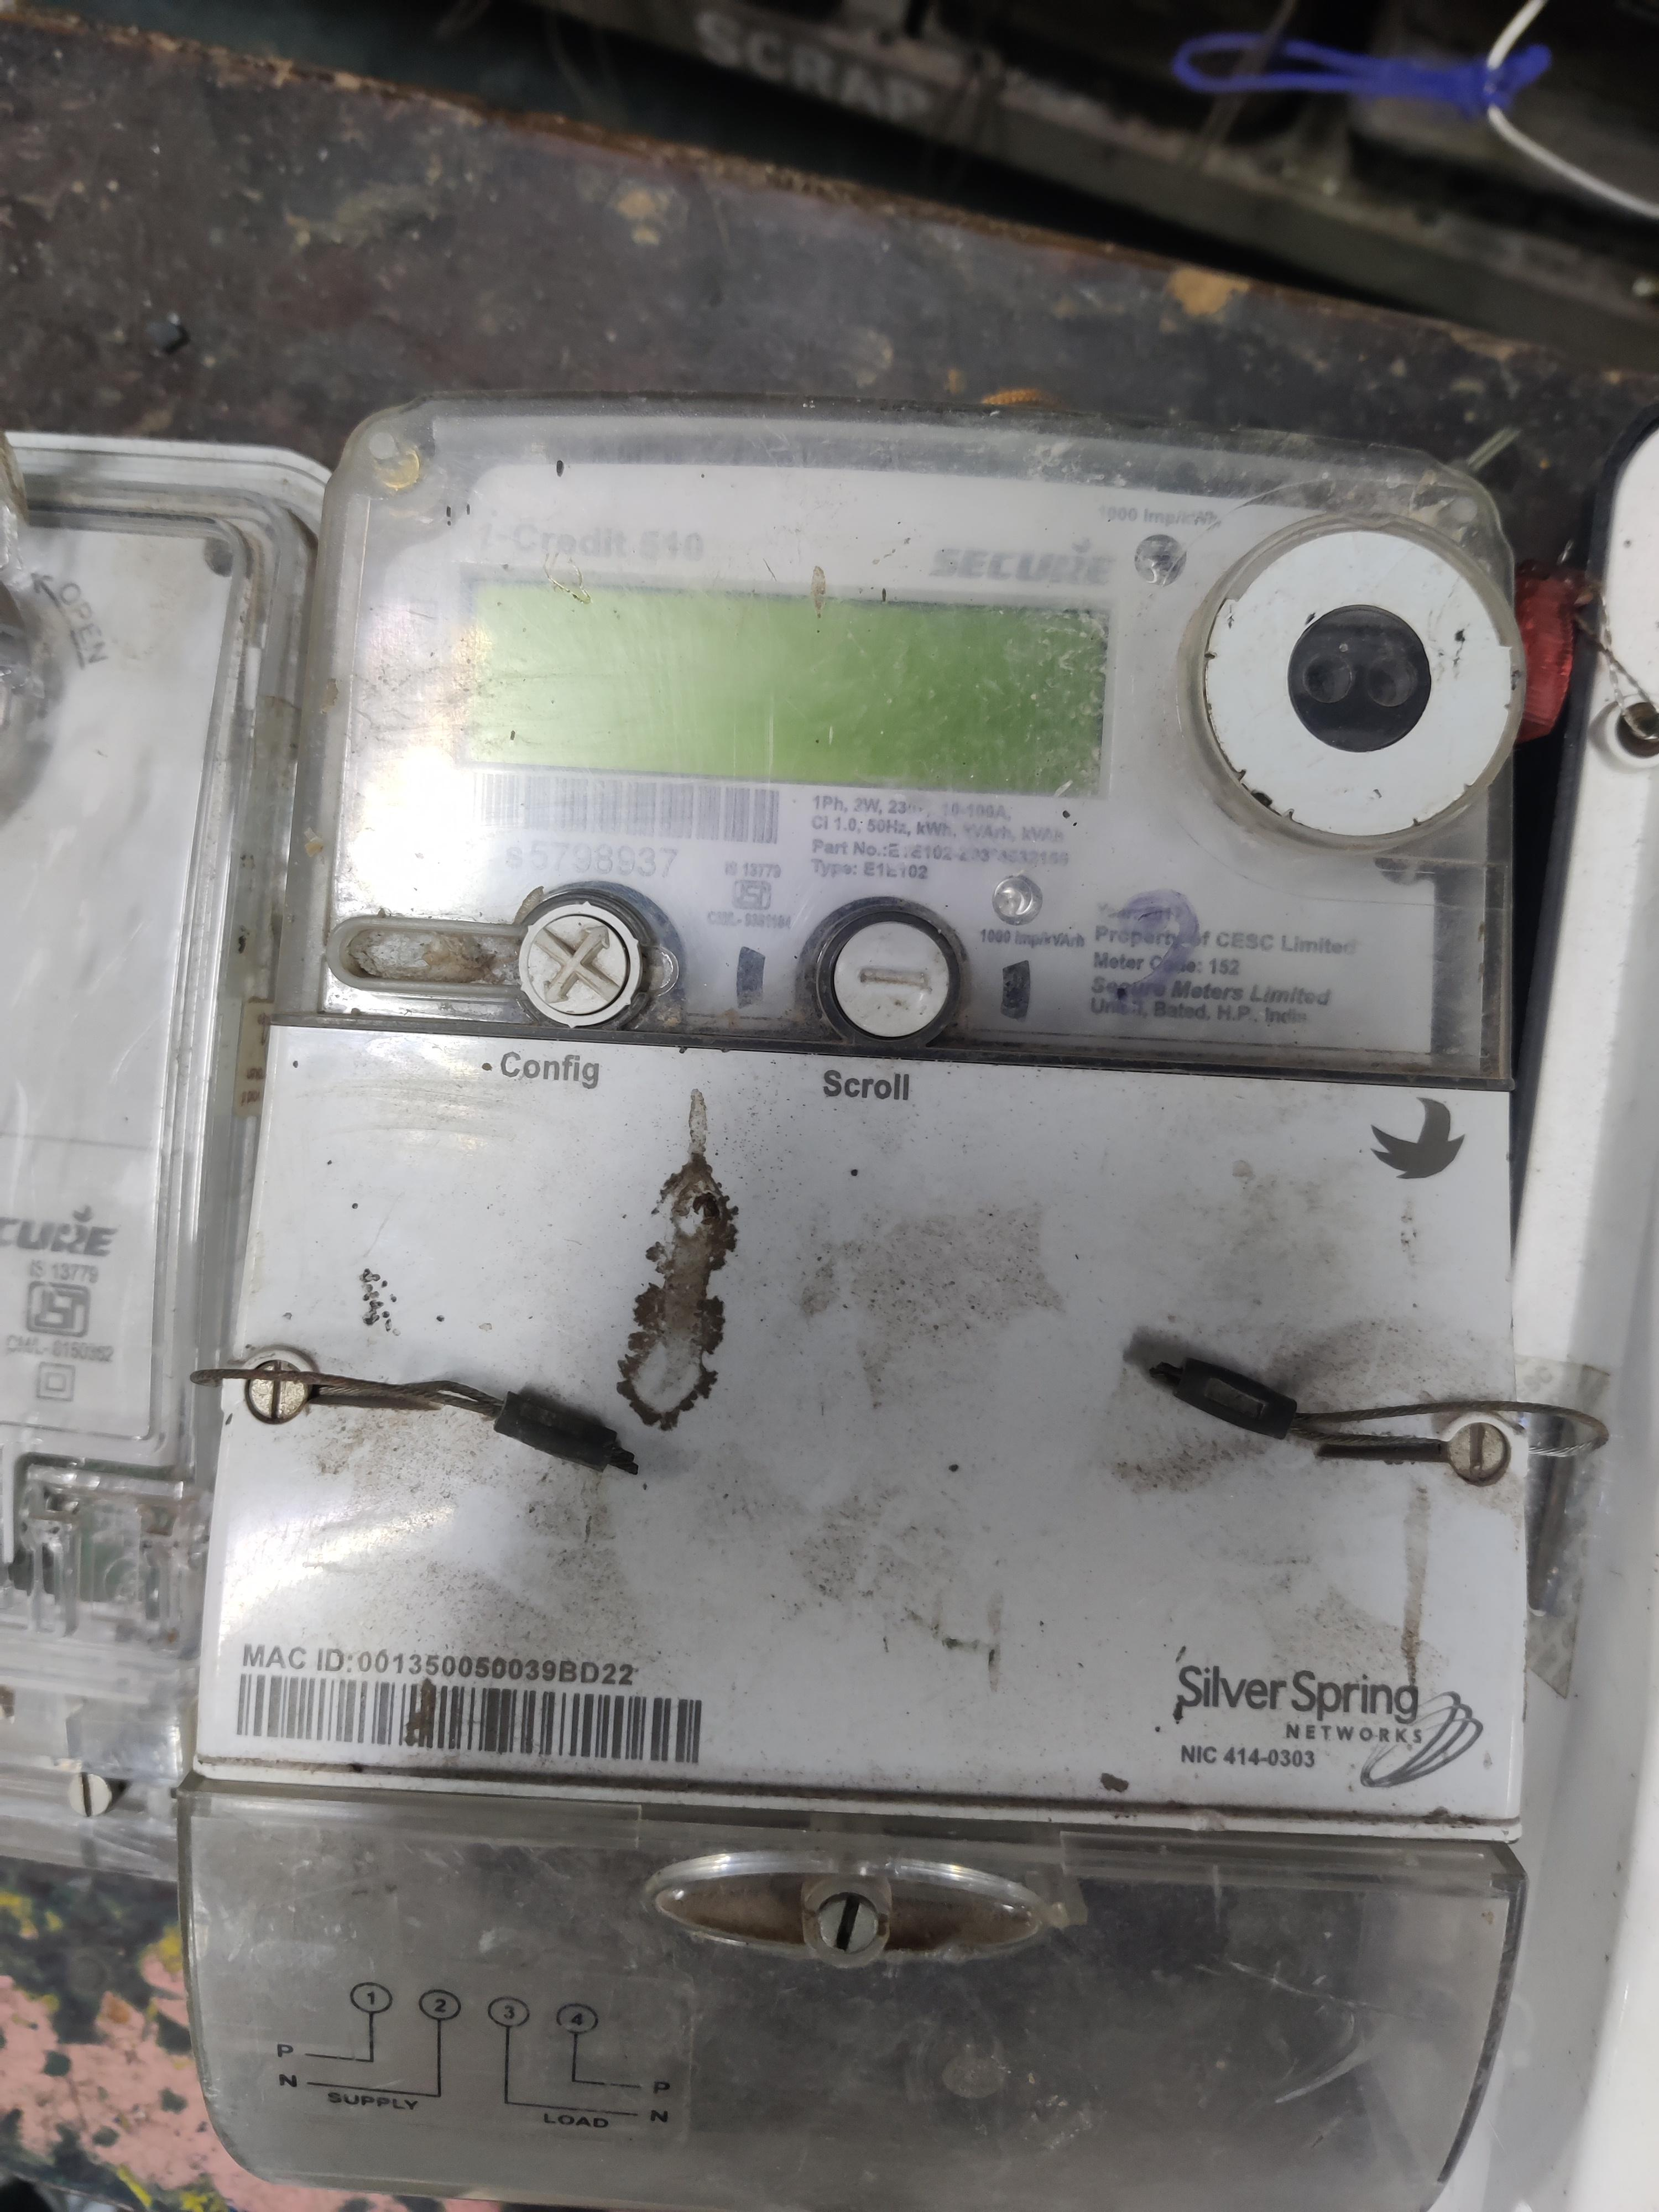meter_readings: (474, 618, 1100, 775)
serial_number: (530, 838, 690, 880)
